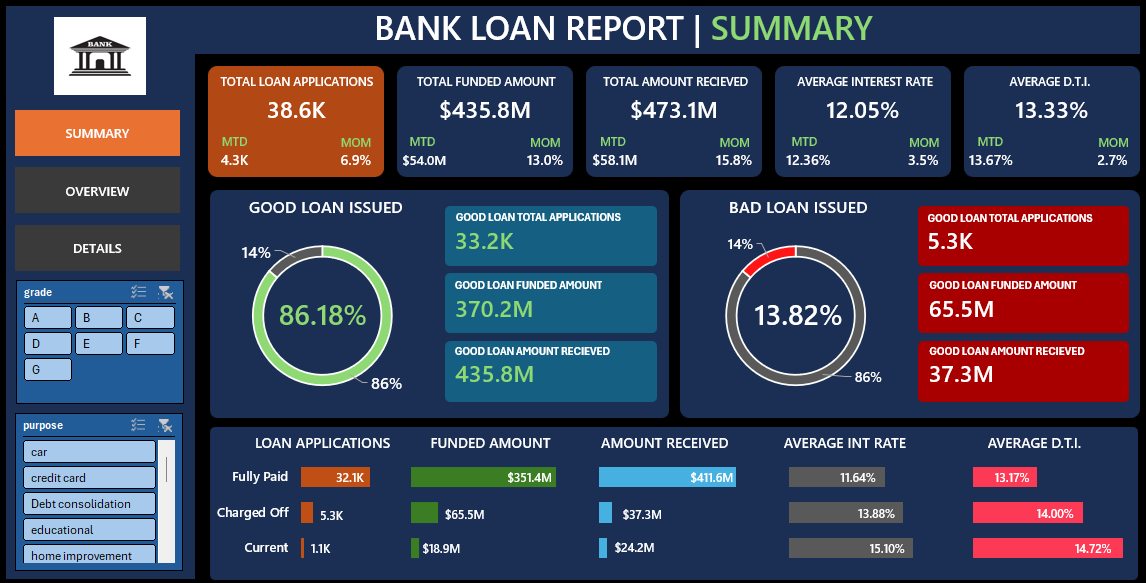

Layout of this report page (visuals, bound fields, positions):
{"tool":"tableau","page":{"name":"SUMMARY","canvas":[1600,900],"ordinal":2},"visuals":[{"type":"image","param":"C:/Users/Admin/Desktop/SQL_Projects/Bank Loan Analysis/Tableau Background 1.jpg","box":[8,8,1584,884]},{"type":"text","box":[566,11,627,74]},{"type":"image","param":"C:/Users/Admin/Desktop/SQL_Projects/Bank Loan Analysis/bank_logo.jpg","box":[43,82,190,112]},{"type":"worksheet","title":"Total Loan Applications","mark":"Automatic","box":[265,97,245,86]},{"type":"worksheet","title":"AVERAGE D.T.I.","mark":"Automatic","box":[1321,97,247,90]},{"type":"worksheet","title":"TOTAL FUNDED AMOUNT","mark":"Automatic","box":[525,98,249,86]},{"type":"worksheet","title":"TOTAL AMOUNT RECEIVED","mark":"Automatic","box":[791,98,249,87]},{"type":"worksheet","title":"AVERAGE INTEREST RATE","mark":"Automatic","box":[1056,98,249,88]},{"type":"text","box":[249,184,100,30]},{"type":"text","box":[421,184,100,30]},{"type":"text","box":[509,184,100,30]},{"type":"text","box":[690,184,100,30]},{"type":"text","box":[774,184,100,30]},{"type":"text","box":[1221,184,100,30]},{"type":"text","box":[959,185,100,30]},{"type":"text","box":[1038,185,100,30]},{"type":"text","box":[1308,185,100,30]},{"type":"text","box":[1483,185,100,30]},{"type":"worksheet","title":"MOM Loan Application","mark":"Automatic","box":[430,200,86,46]},{"type":"worksheet","title":"MTD Average D.T.I","mark":"Automatic","box":[1319,200,80,47]},{"type":"worksheet","title":"MTD Average Interest Rate","mark":"Automatic","box":[1057,201,66,45]},{"type":"worksheet","title":"MTD Total Loan Applications","mark":"Automatic","box":[245,202,105,41]},{"type":"worksheet","title":"MTD Total Amount Recieved","mark":"Automatic","box":[792,202,63,42]},{"type":"worksheet","title":"MTD Total Funded Amount","mark":"Automatic","box":[527,204,66,40]},{"type":"worksheet","title":"MOM Average Interest Rate","mark":"Automatic","box":[1237,204,71,39]},{"type":"worksheet","title":"MOM Average D.T.I.","mark":"Automatic","box":[1497,204,75,40]},{"type":"worksheet","title":"MOM Total Amount Recieved","mark":"Automatic","box":[971,207,76,36]},{"type":"worksheet","title":"MOM Total Funded Amount","mark":"Automatic","box":[709,208,65,34]},{"type":"dashboard-object","box":[50,239,180,52]},{"type":"worksheet","title":"Bad Loan Issued","mark":"Pie","rows":["Calculation_300615298659069976","Calculation_300615298659069976"],"box":[924,260,304,340]},{"type":"worksheet","title":"Good Loan Issued","mark":"Pie","rows":["Calculation_300615298653732885","Calculation_300615298653732885"],"box":[265,261,311,338]},{"type":"worksheet","title":"Good Loan Application","mark":"Automatic","box":[618,305,289,71]},{"type":"worksheet","title":"Bad Loan Application","mark":"Automatic","box":[1278,305,289,71]},{"type":"dashboard-object","box":[50,315,180,52]},{"type":"worksheet","title":"Good Loan Funded Amount","mark":"Automatic","box":[618,388,289,71]},{"type":"worksheet","title":"Bad Loan Funded Amount ","mark":"Automatic","box":[1278,389,289,71]},{"type":"dashboard-object","box":[50,390,180,52]},{"type":"worksheet","title":"Bad Loan Application %","mark":"Automatic","box":[975,403,206,86]},{"type":"worksheet","title":"GOOD LOAN APPLICATION %","mark":"Automatic","box":[322,405,206,83]},{"type":"worksheet","title":"Good Loan Amount Recieved","mark":"Automatic","box":[618,473,289,71]},{"type":"worksheet","title":"Bad Loan Amount Recieved ","mark":"Automatic","box":[1279,473,289,71]},{"type":"filter","title":"Good Loan Issued","param":"[federated.0acb2y31ccfgxm1fxwtr7176igtj].[none:purpose:nk]","box":[50,494,180,68]},{"type":"filter","title":"Good Loan Issued","param":"[federated.0acb2y31ccfgxm1fxwtr7176igtj].[none:grade:nk]","box":[49,616,180,68]},{"type":"worksheet","title":"LOAN STATUS","mark":"Automatic","rows":["loan_status"],"box":[265,617,1303,263]},{"type":"filter","title":"Good Loan Issued","param":"[federated.0acb2y31ccfgxm1fxwtr7176igtj].[none:verification_status:nk]","box":[49,737,180,68]}]}

Visuals, with their boxes on the page's 1600x900 design canvas (x1, y1, x2, y2). These are canvas units, not pixel positions in the 1146x583 screenshot, which may show the page scaled, cropped or inside an application window:
image: (left=8, top=8, right=1592, bottom=892)
text: (left=566, top=11, right=1193, bottom=85)
image: (left=43, top=82, right=233, bottom=194)
"Total Loan Applications" worksheet: (left=265, top=97, right=510, bottom=183)
"AVERAGE D.T.I." worksheet: (left=1321, top=97, right=1568, bottom=187)
"TOTAL FUNDED AMOUNT" worksheet: (left=525, top=98, right=774, bottom=184)
"TOTAL AMOUNT RECEIVED" worksheet: (left=791, top=98, right=1040, bottom=185)
"AVERAGE INTEREST RATE" worksheet: (left=1056, top=98, right=1305, bottom=186)
text: (left=249, top=184, right=349, bottom=214)
text: (left=421, top=184, right=521, bottom=214)
text: (left=509, top=184, right=609, bottom=214)
text: (left=690, top=184, right=790, bottom=214)
text: (left=774, top=184, right=874, bottom=214)
text: (left=1221, top=184, right=1321, bottom=214)
text: (left=959, top=185, right=1059, bottom=215)
text: (left=1038, top=185, right=1138, bottom=215)
text: (left=1308, top=185, right=1408, bottom=215)
text: (left=1483, top=185, right=1583, bottom=215)
"MOM Loan Application" worksheet: (left=430, top=200, right=516, bottom=246)
"MTD Average D.T.I" worksheet: (left=1319, top=200, right=1399, bottom=247)
"MTD Average Interest Rate" worksheet: (left=1057, top=201, right=1123, bottom=246)
"MTD Total Loan Applications" worksheet: (left=245, top=202, right=350, bottom=243)
"MTD Total Amount Recieved" worksheet: (left=792, top=202, right=855, bottom=244)
"MTD Total Funded Amount" worksheet: (left=527, top=204, right=593, bottom=244)
"MOM Average Interest Rate" worksheet: (left=1237, top=204, right=1308, bottom=243)
"MOM Average D.T.I." worksheet: (left=1497, top=204, right=1572, bottom=244)
"MOM Total Amount Recieved" worksheet: (left=971, top=207, right=1047, bottom=243)
"MOM Total Funded Amount" worksheet: (left=709, top=208, right=774, bottom=242)
dashboard-object: (left=50, top=239, right=230, bottom=291)
"Bad Loan Issued" worksheet (Pie marks): (left=924, top=260, right=1228, bottom=600)
"Good Loan Issued" worksheet (Pie marks): (left=265, top=261, right=576, bottom=599)
"Good Loan Application" worksheet: (left=618, top=305, right=907, bottom=376)
"Bad Loan Application" worksheet: (left=1278, top=305, right=1567, bottom=376)
dashboard-object: (left=50, top=315, right=230, bottom=367)
"Good Loan Funded Amount" worksheet: (left=618, top=388, right=907, bottom=459)
"Bad Loan Funded Amount " worksheet: (left=1278, top=389, right=1567, bottom=460)
dashboard-object: (left=50, top=390, right=230, bottom=442)
"Bad Loan Application %" worksheet: (left=975, top=403, right=1181, bottom=489)
"GOOD LOAN APPLICATION %" worksheet: (left=322, top=405, right=528, bottom=488)
"Good Loan Amount Recieved" worksheet: (left=618, top=473, right=907, bottom=544)
"Bad Loan Amount Recieved " worksheet: (left=1279, top=473, right=1568, bottom=544)
"Good Loan Issued" filter: (left=50, top=494, right=230, bottom=562)
"Good Loan Issued" filter: (left=49, top=616, right=229, bottom=684)
"LOAN STATUS" worksheet: (left=265, top=617, right=1568, bottom=880)
"Good Loan Issued" filter: (left=49, top=737, right=229, bottom=805)
